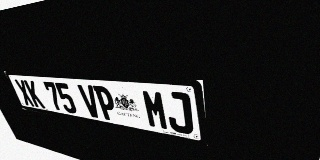5: (54, 82, 78, 114)
7: (42, 81, 66, 112)
J: (164, 91, 194, 135)
K: (23, 80, 46, 109)
M: (141, 89, 170, 131)
P: (93, 85, 119, 122)
V: (77, 84, 103, 119)
X: (14, 79, 35, 107)
